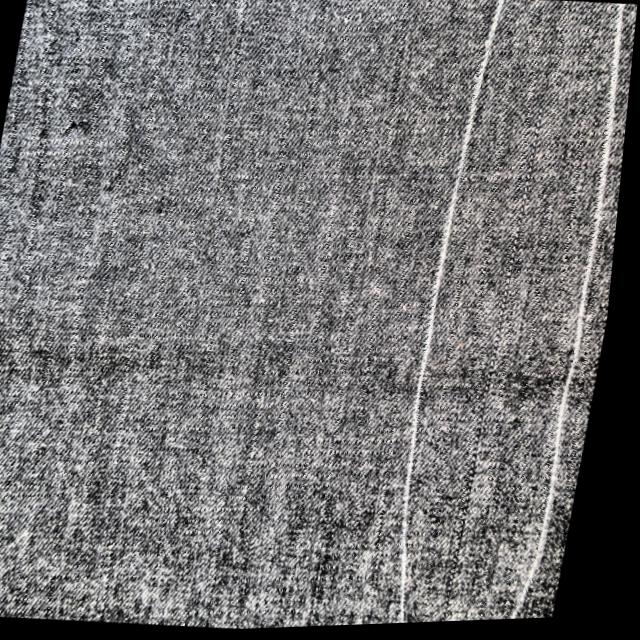Hole: (461, 111, 547, 567)
